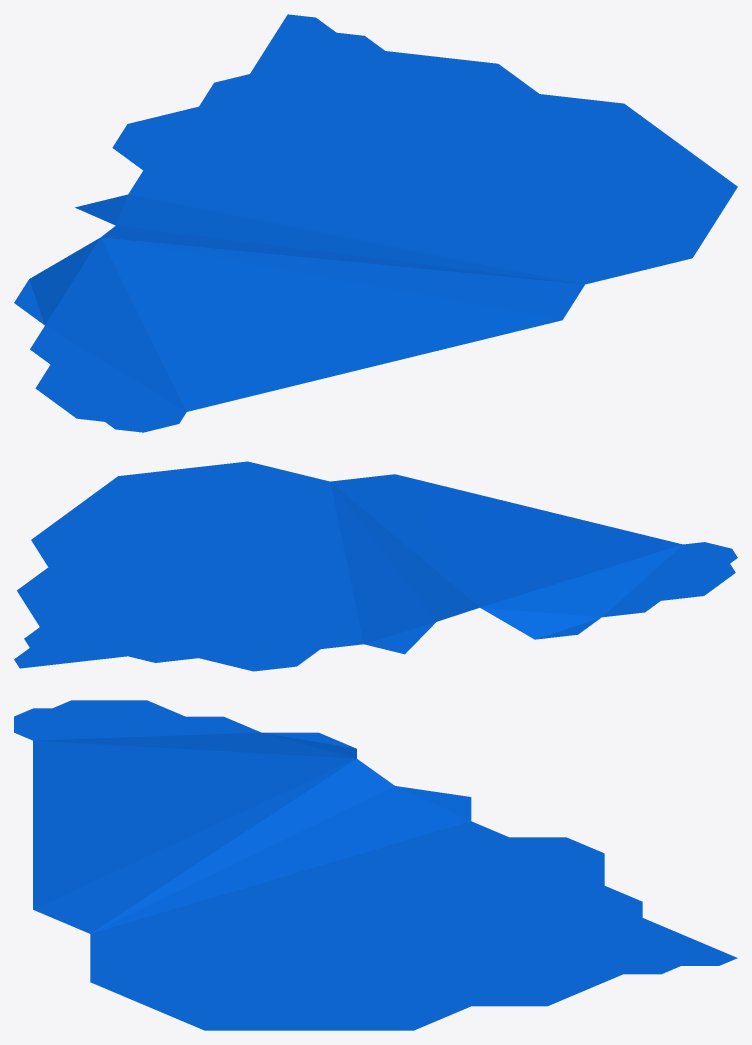
File: SM_MainLevel_Ground_5.fbx
3 renders of one model, top to bottom at view 1: azimuth 30°, elevation 25°; view 2: azimuth 150°, elevation 25°; view 3: azimuth 270°, elevation 25°, orthographic. The views are drawn at different scales.
Visible parts, largest first — view 1: SM_MainLevel_Ground_5; view 2: SM_MainLevel_Ground_5; view 3: SM_MainLevel_Ground_5.
Boxes of the visible parts, <box> form: SM_MainLevel_Ground_5: <box>14,14,737,432</box>; SM_MainLevel_Ground_5: <box>14,461,737,671</box>; SM_MainLevel_Ground_5: <box>14,700,737,1030</box>.
Size of the model in its own units: 41 by 1.29 by 38.
